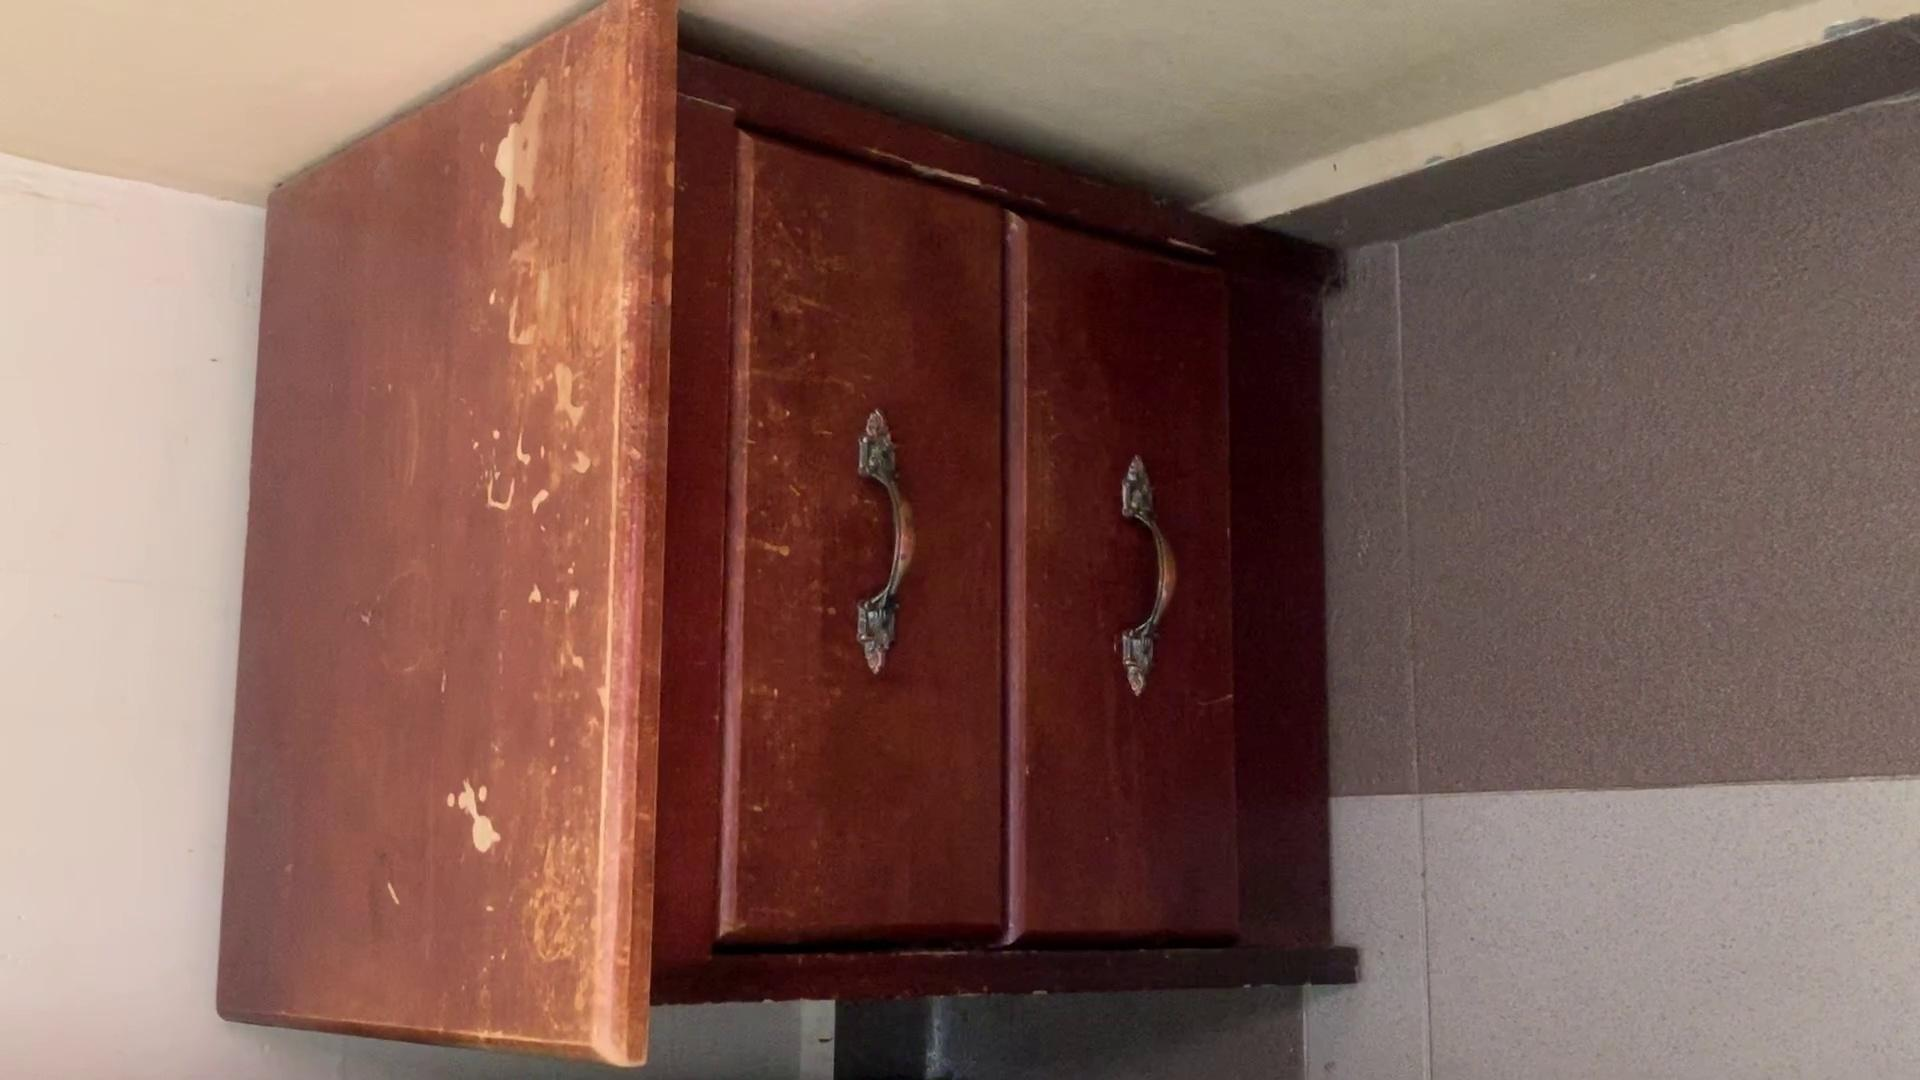cabinet_door: (733, 145, 994, 965), (1017, 231, 1232, 945)
handle: (839, 397, 927, 676), (1112, 450, 1183, 704)
